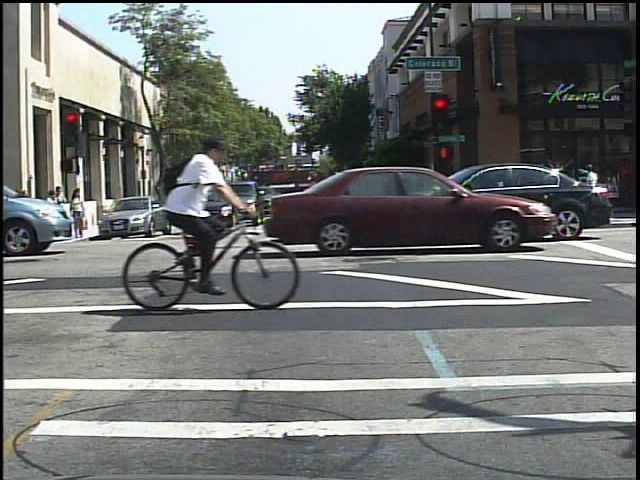person: (165, 124, 247, 303), (584, 159, 610, 224)
